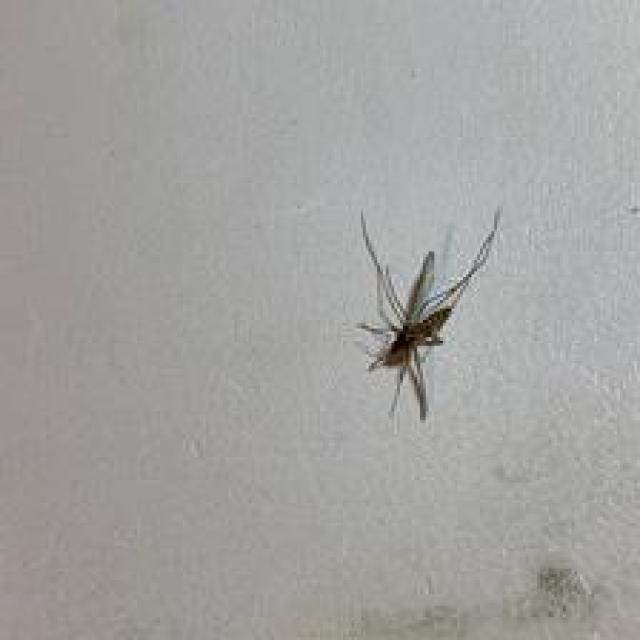Culex: (354, 205, 503, 422)
